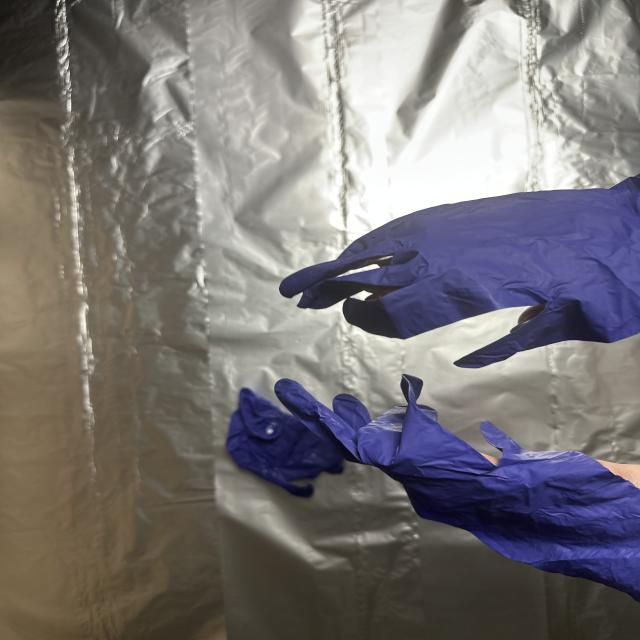glove_not_fitted: (270, 372, 640, 603), (274, 175, 640, 384)
